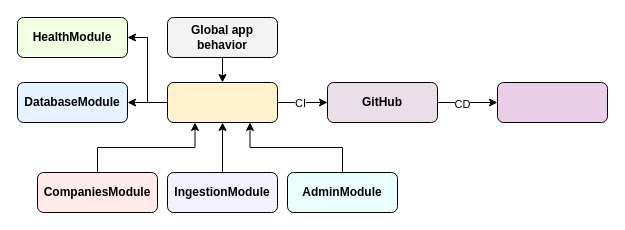
Image size: 625x230. Some labels were removed from this diagram. Here are the shapes that lost their labels. From the top down, the centre of each, then its label:
the point at 222,102: AppModule
the point at 552,102: Production
